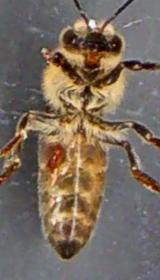varroa_mite: (39, 138, 71, 176)
